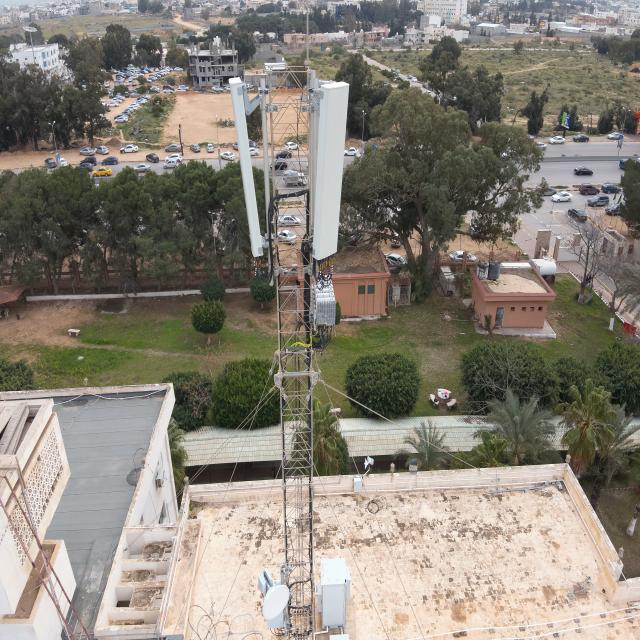antenna: (312, 79, 352, 262), (228, 75, 265, 257)
lighnig-rad: (304, 0, 312, 64)
microware-dish: (258, 568, 290, 619)
power-box: (268, 577, 284, 628)
radio-unit: (316, 276, 336, 328)
